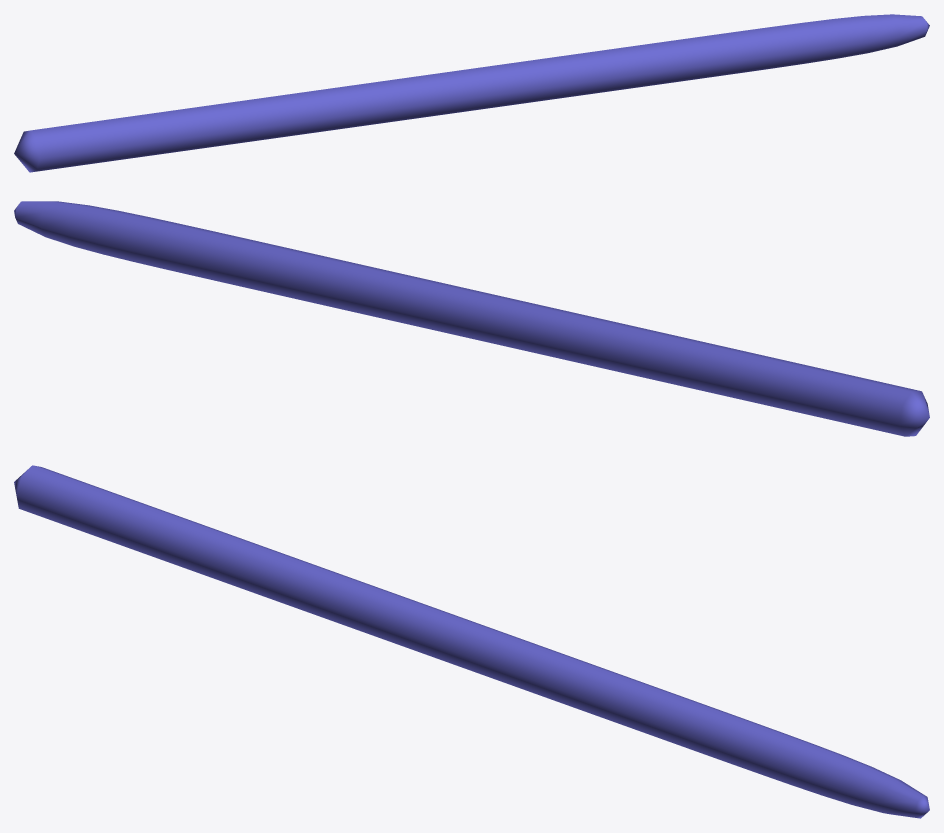
The picture shows the model from 3 angles, top to bottom: view 1: azimuth 30°, elevation 25°; view 2: azimuth 150°, elevation 25°; view 3: azimuth 330°, elevation 25°; orthographic projection. The views are drawn at different scales.
Parts seen in each view (by area): view 1: brush_Disco_g0_b0; view 2: brush_Disco_g0_b0; view 3: brush_Disco_g0_b0.
Boxes of the visible parts, x1=… form: brush_Disco_g0_b0: x1=14, y1=14, x2=929, y2=172; brush_Disco_g0_b0: x1=14, y1=201, x2=929, y2=436; brush_Disco_g0_b0: x1=14, y1=465, x2=929, y2=818.
Size of the model in its own units: 10.59 by 1.03 by 1.23.
